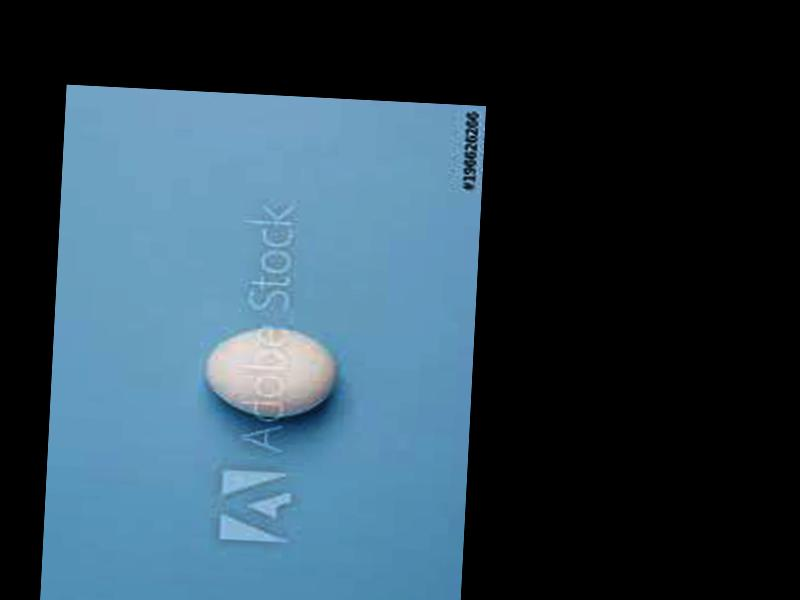Eggs: (206, 326, 336, 420)
